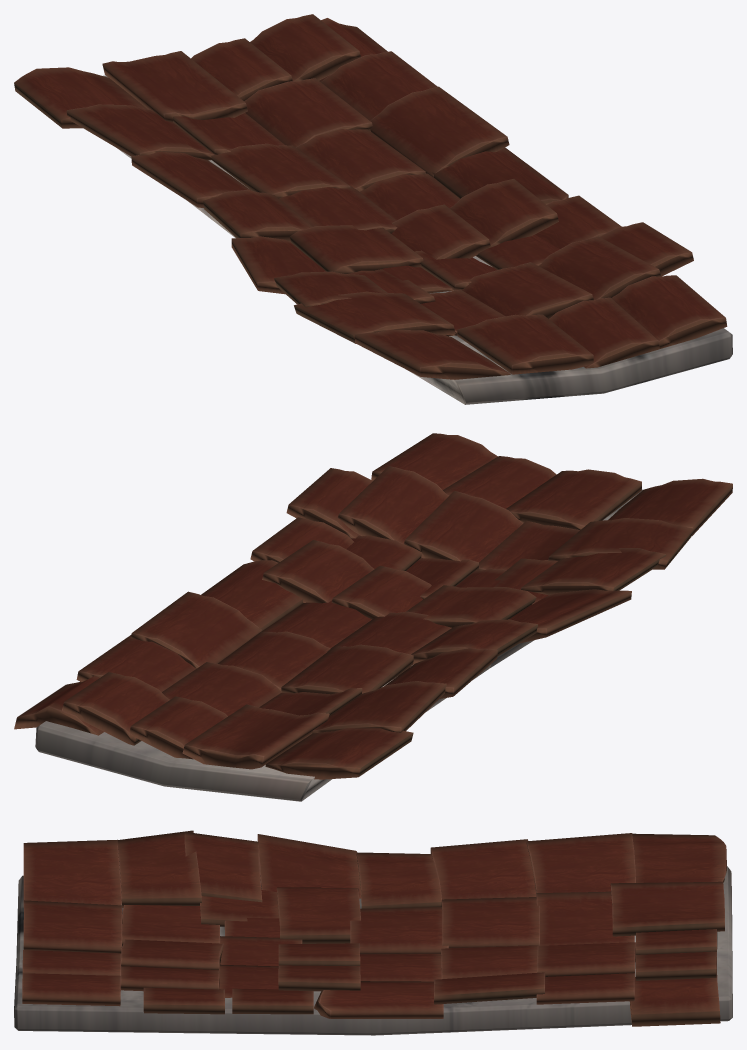
File: HalfRoof_V2.fbx
3 views of the same model, one above another, from view 1: azimuth 30°, elevation 25°; view 2: azimuth 150°, elevation 25°; view 3: azimuth 270°, elevation 25° (orthographic). The views are drawn at different scales.
Parts seen in each view (by area): view 1: Roof_Tile1.007; view 2: Roof_Tile1.007; view 3: Roof_Tile1.007.
Part boxes in pixels (x1,y1,x2,y2): Roof_Tile1.007: [14, 14, 732, 404]; Roof_Tile1.007: [14, 433, 732, 801]; Roof_Tile1.007: [14, 830, 732, 1035].
Bounding box in the file's own units: 224 × 46.99 × 425.
